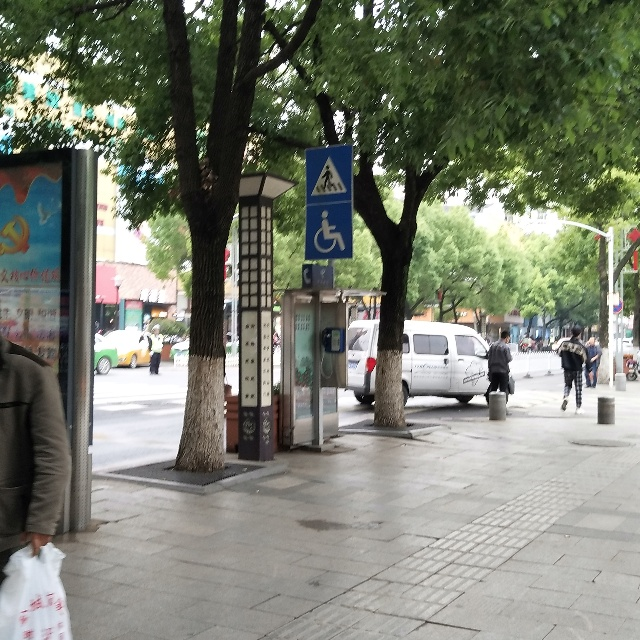crosswalk: (307, 150, 348, 200)
